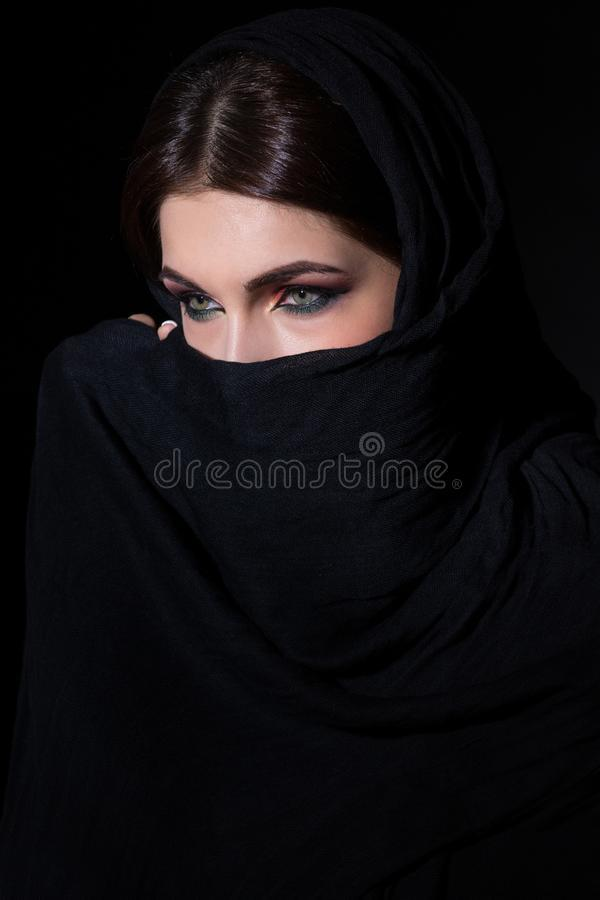No Mask: (122, 46, 444, 496)
